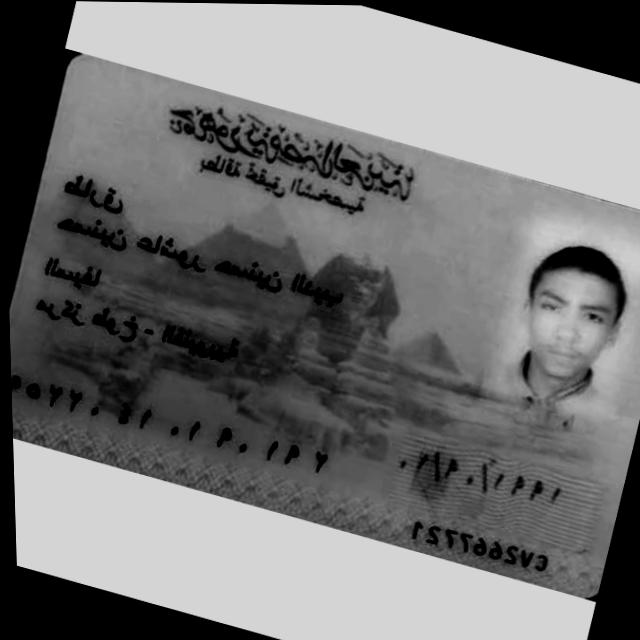id_card: (9, 54, 640, 602)
